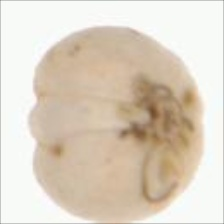L5: (111, 73, 200, 162), (23, 87, 135, 147)
L6: (24, 24, 209, 220)
